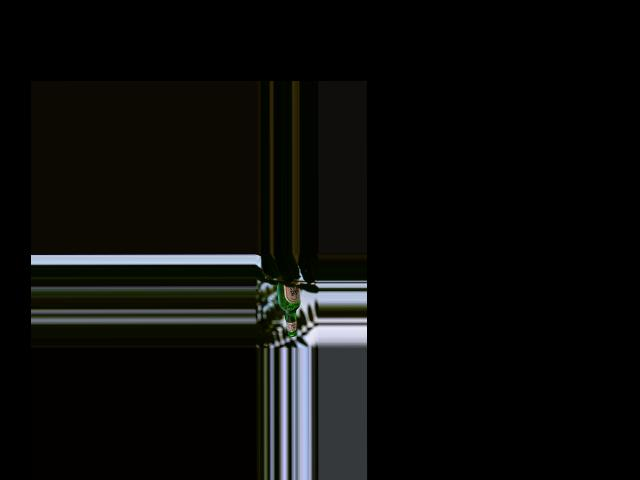beer: (277, 277, 300, 337)
